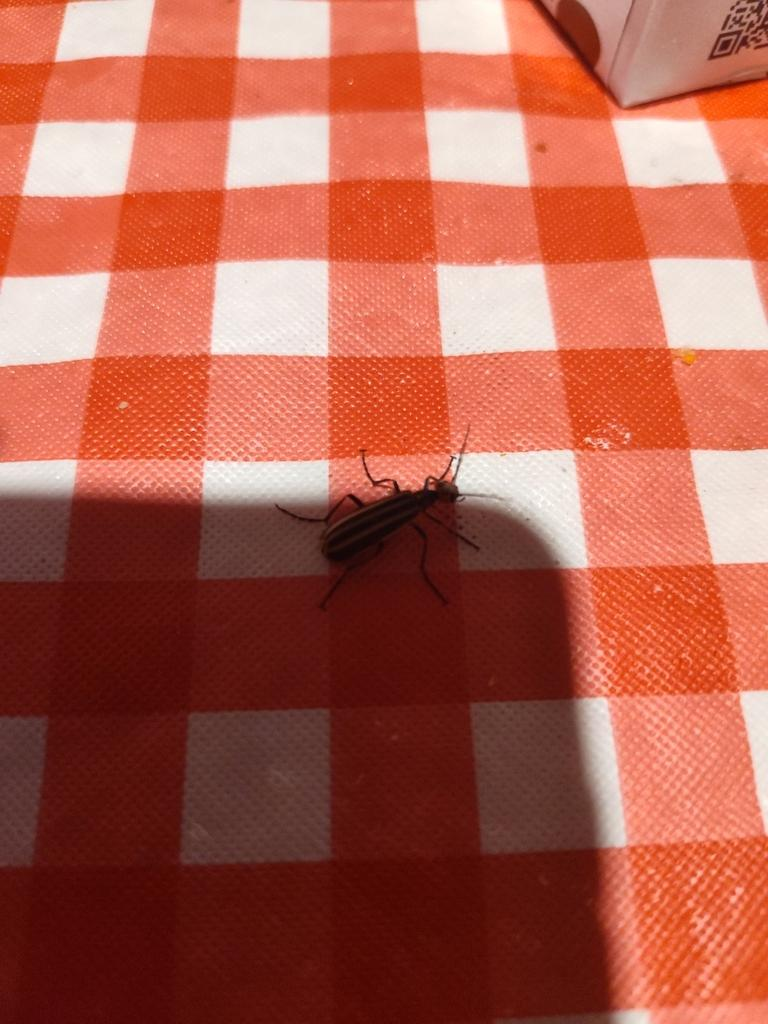blister_beetle: (241, 398, 542, 637)
